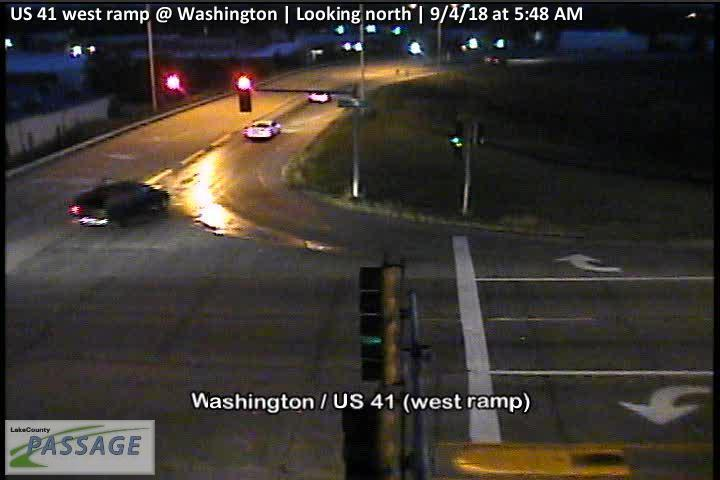Sedan: (63, 181, 169, 233), (243, 119, 283, 141), (306, 90, 333, 104), (485, 54, 504, 65)
